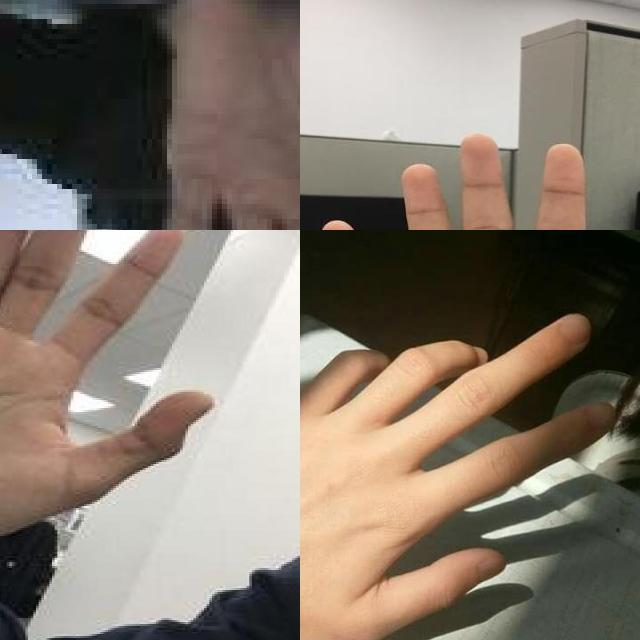no-gloves: (300, 310, 618, 640), (0, 230, 217, 536), (147, 0, 300, 230), (316, 133, 640, 230)
